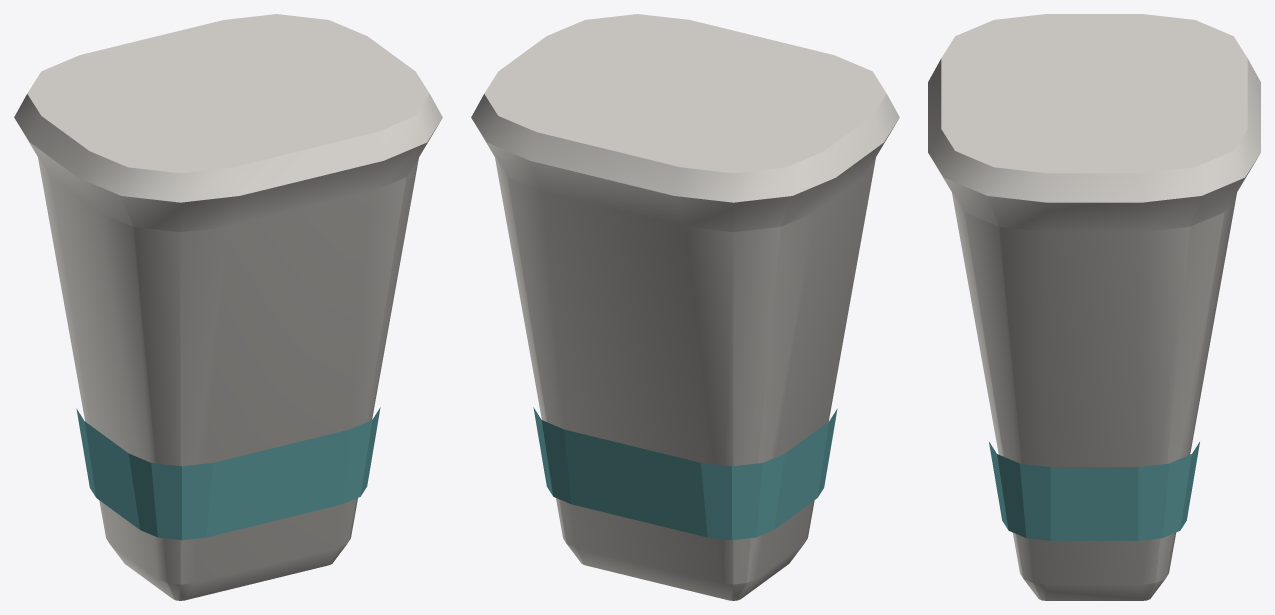
Rendered from fast-food-and-drive-thru-fry-carton-small-kraft-0794b325__16226.glb.
3 views of the same model, side by side, from view 1: azimuth 30°, elevation 25°; view 2: azimuth 150°, elevation 25°; view 3: azimuth 270°, elevation 25° (orthographic).
Visible parts, largest first — view 1: fry-carton-small-kraft; view 2: fry-carton-small-kraft; view 3: fry-carton-small-kraft.
Part boxes in pixels (<box>): fry-carton-small-kraft: <box>14,14,442,600</box>; fry-carton-small-kraft: <box>471,14,899,600</box>; fry-carton-small-kraft: <box>928,14,1260,600</box>.
Bounding box in the file's own units: 0.092 × 0.118 × 0.076.
